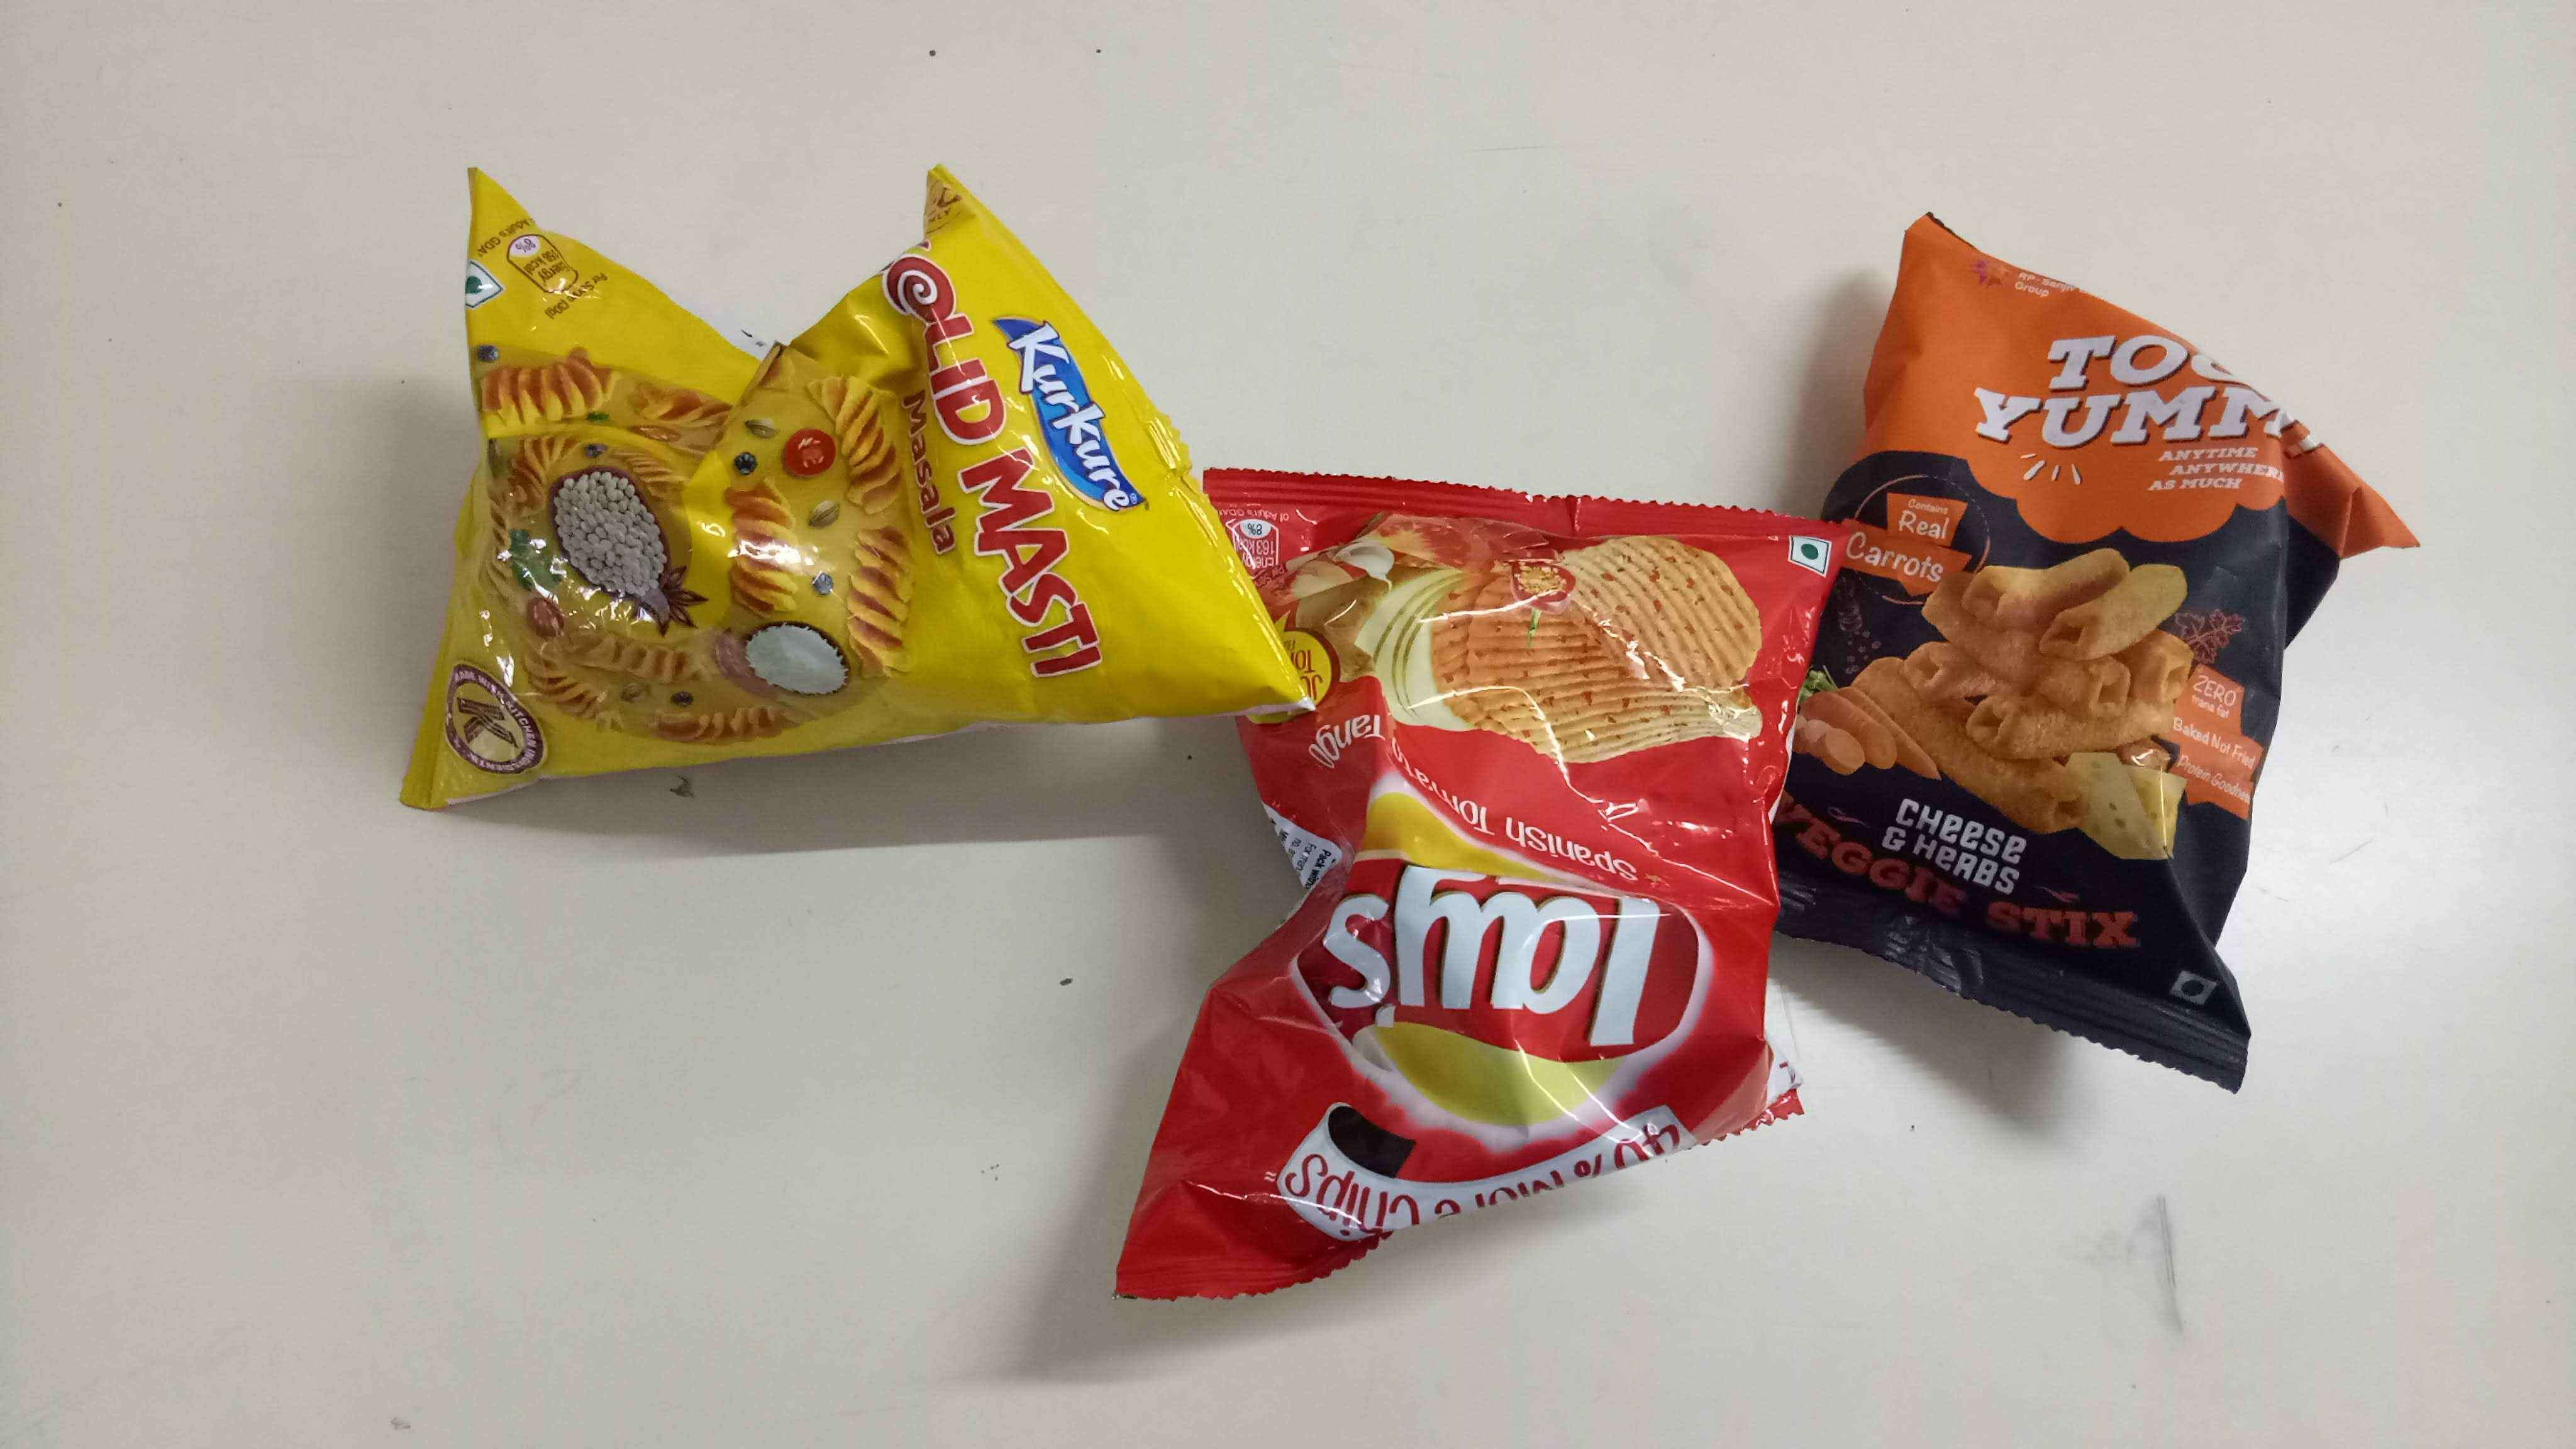Lays: (1306, 784, 1737, 1127)
kurkure: (1003, 304, 1154, 529)
tooyumm: (1953, 340, 2342, 478)
